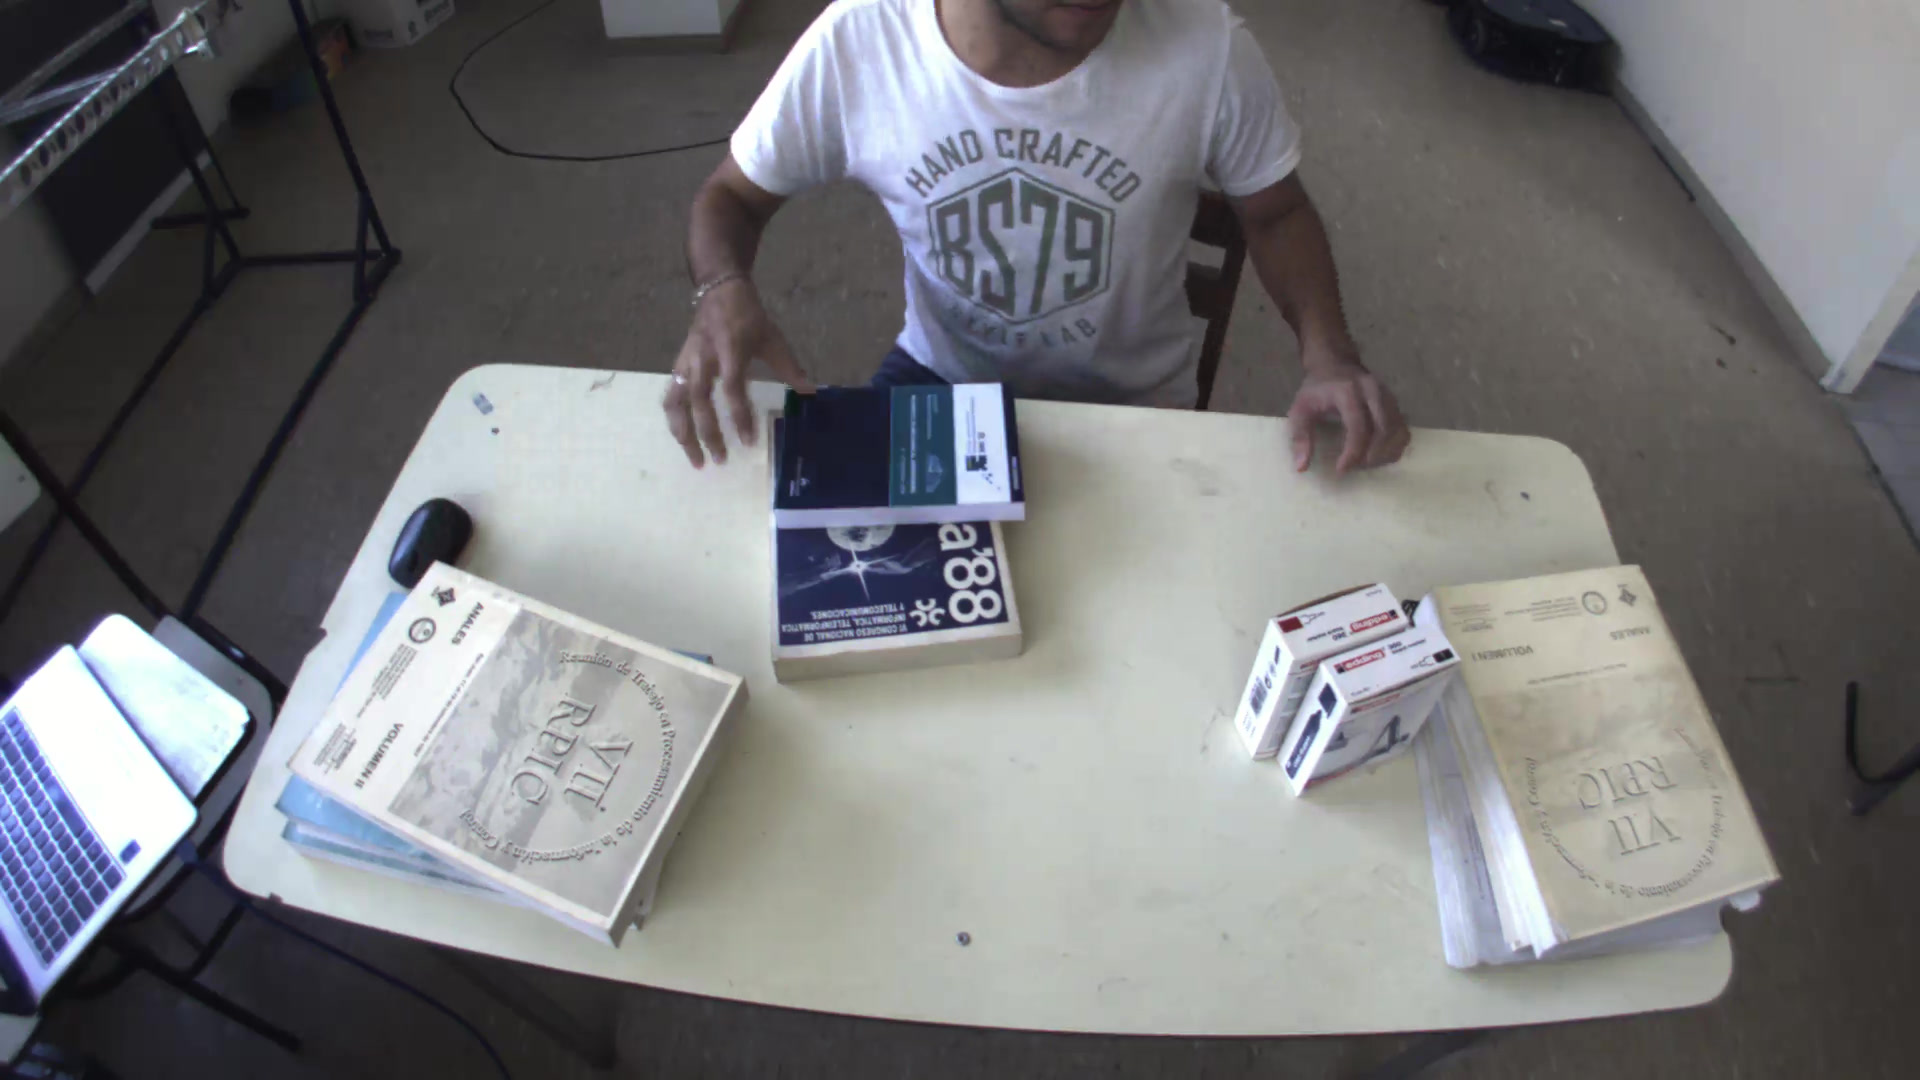hand: (645, 261, 816, 465), (1284, 348, 1428, 476)
